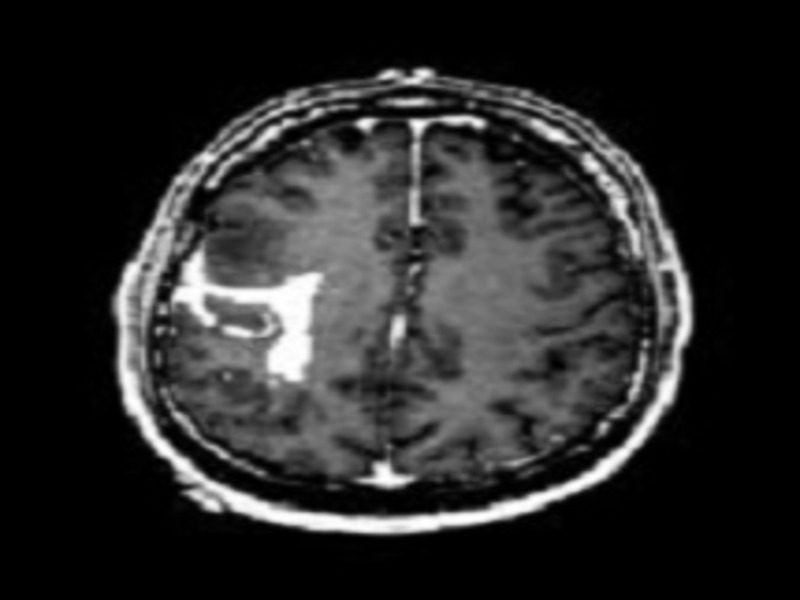tumor: (159, 245, 334, 392)
